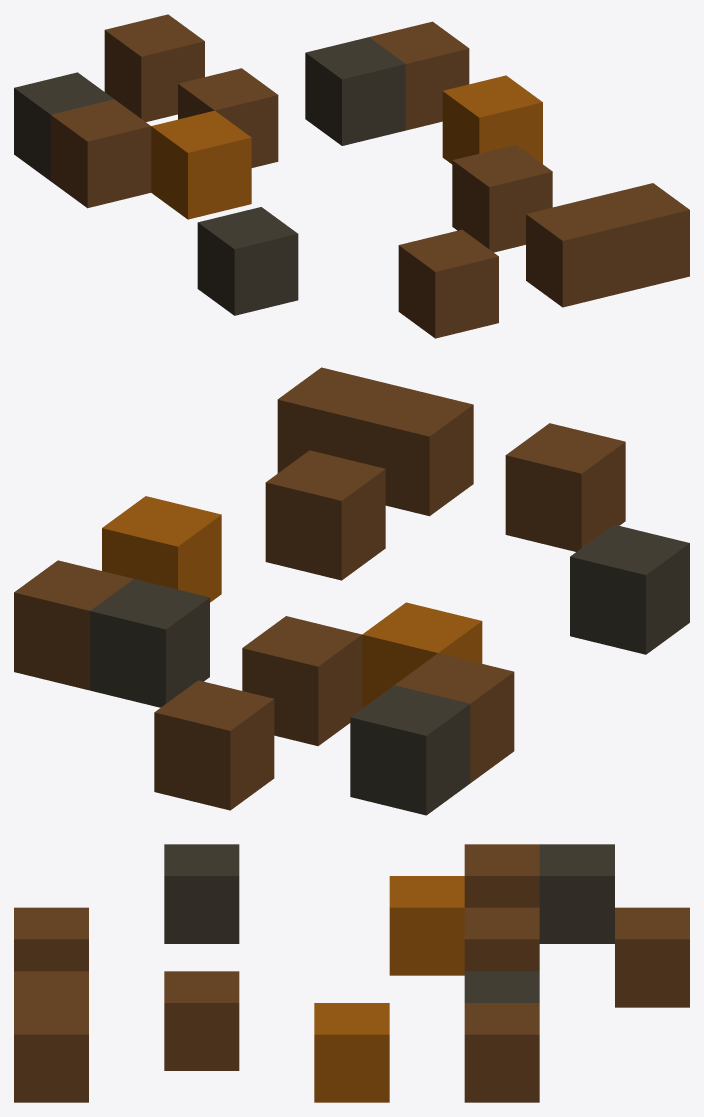
File: Medieval Assets-194-Graveyard - Grave Dirt - Extras.obj
3 renders of one model, top to bottom at view 1: azimuth 30°, elevation 25°; view 2: azimuth 150°, elevation 25°; view 3: azimuth 270°, elevation 25°, orthographic. The views are drawn at different scales.
Visible parts, largest first — view 1: Graveyard - Grave Dirt - Extras; view 2: Graveyard - Grave Dirt - Extras; view 3: Graveyard - Grave Dirt - Extras.
Boxes of the visible parts, x1,y1,x2,y2 form: Graveyard - Grave Dirt - Extras: [14, 14, 689, 338]; Graveyard - Grave Dirt - Extras: [14, 367, 689, 815]; Graveyard - Grave Dirt - Extras: [14, 844, 689, 1102].
Bounding box in the file's own units: 0.6 × 0.1 × 0.9.
1 material, 1 textured.
